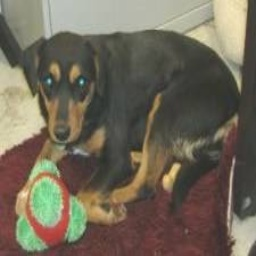dog: (18, 24, 247, 235)
